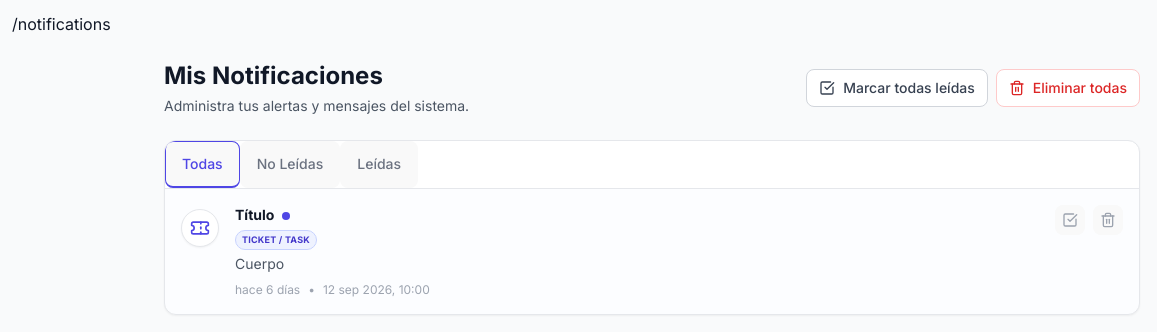
Test: Notifications page — click and mark-as-read behavior is preserved › clicking a Ticket/Task notification marks it read and navigates to /tickets/{id}
Click the heading "Título" at (263, 214), box [235,206,290,223]
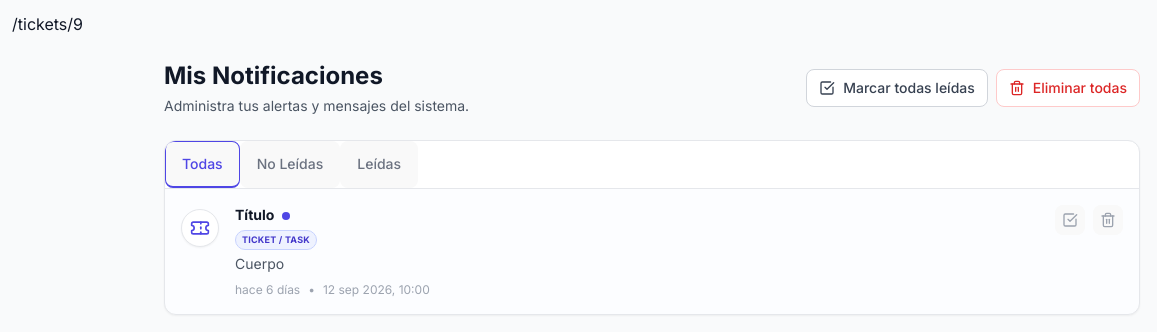
Check: the text with test id "location-probe" reads "/tickets/9", box [12,14,83,34]
